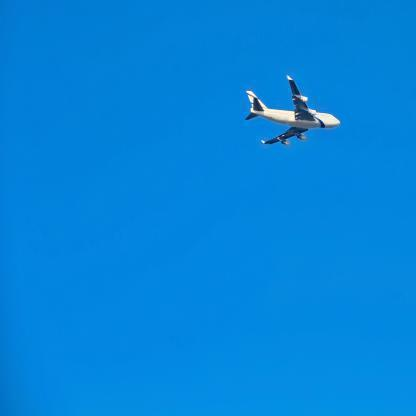aircraft: (239, 69, 342, 155)
